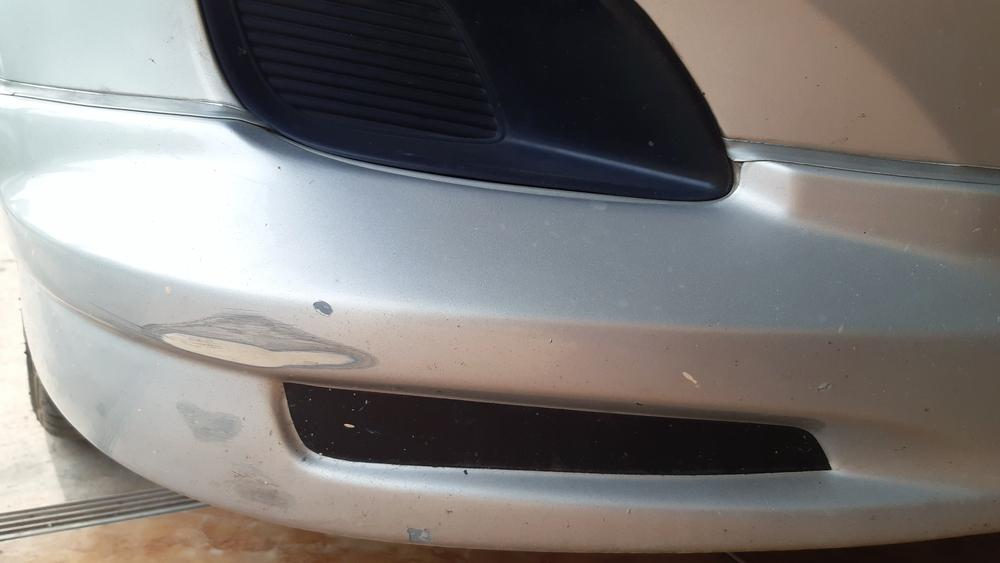scratch: (131, 293, 379, 378), (173, 398, 291, 509)
